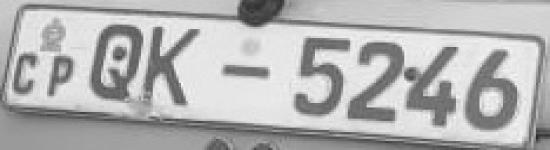-: (219, 62, 274, 84)
2: (348, 36, 406, 126)
4: (406, 36, 464, 131)
5: (294, 28, 352, 119)
6: (464, 43, 524, 138)
C: (10, 52, 42, 97)
K: (144, 23, 205, 110)
P: (46, 53, 81, 104)
Q: (86, 17, 144, 103)
